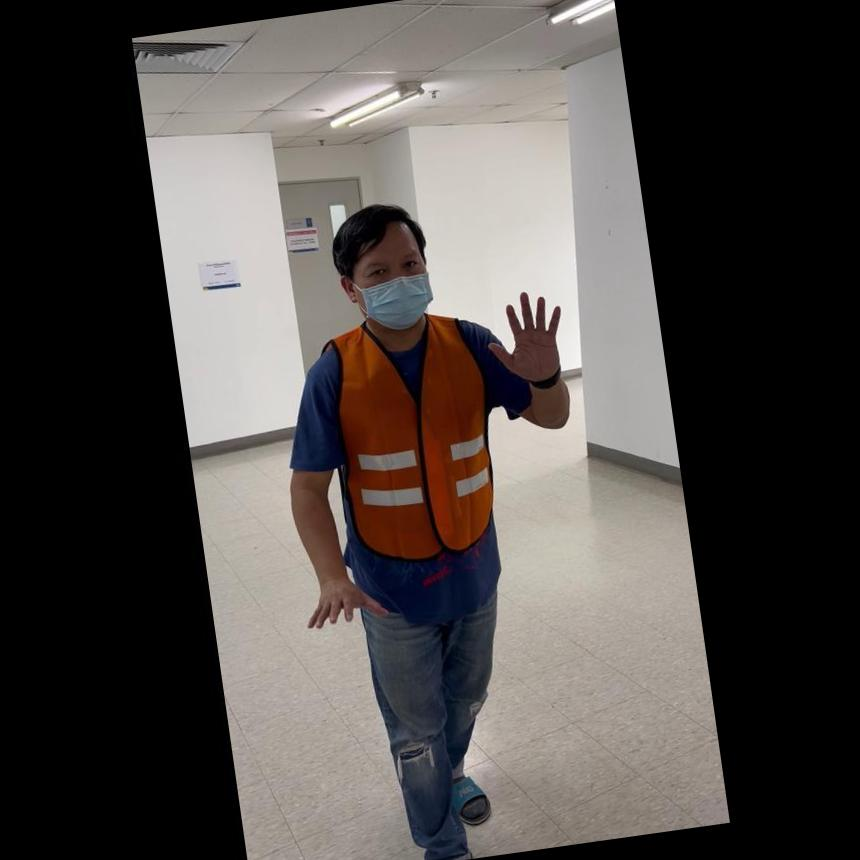No-gloves: (478, 281, 569, 389), (296, 562, 384, 634)
